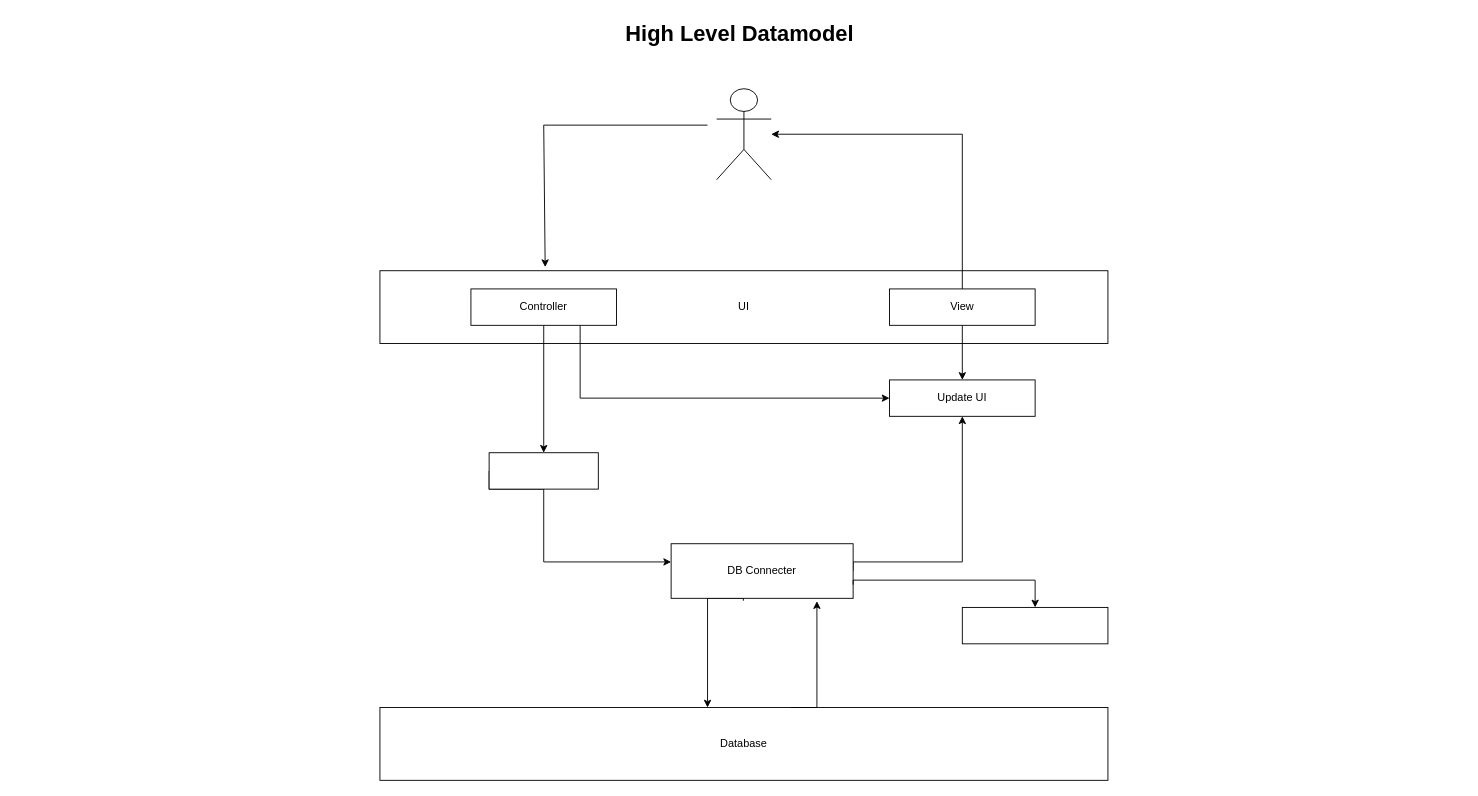
Image size: 1478x796. Some labels were removed from this diagram. The box of each missing label's shape, as (x1, y1, x2, y2) in pixels:
Create new Element: (488, 452, 598, 489)
Notifyer: (961, 607, 1108, 644)
User: (716, 88, 771, 180)
